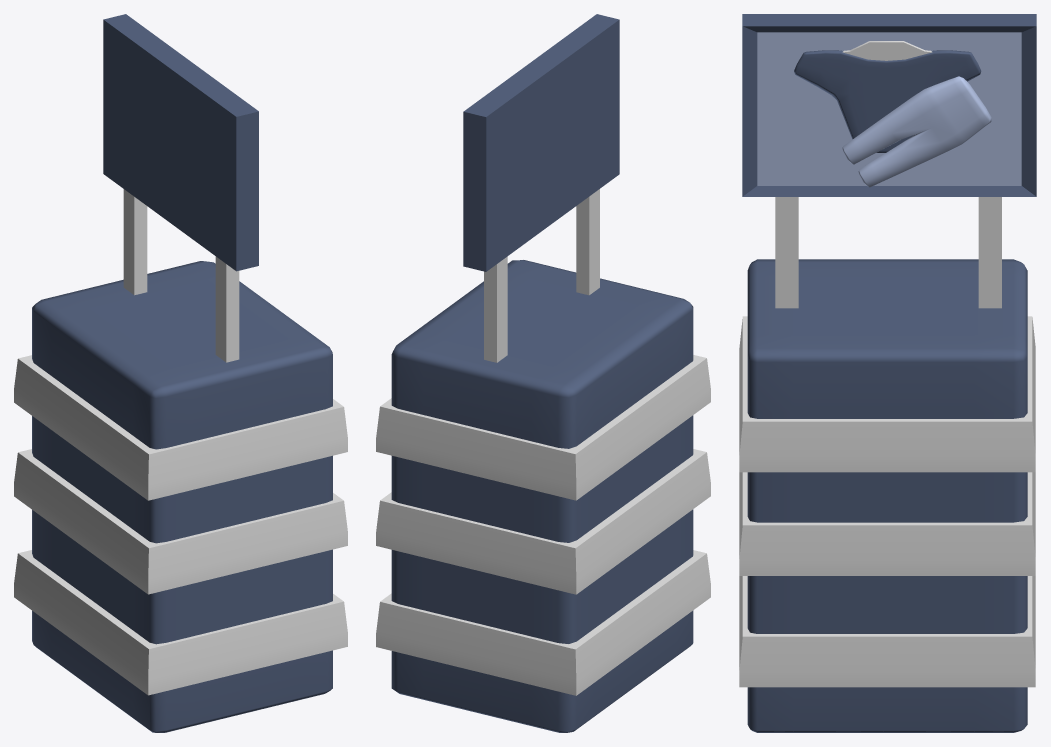
The model's file is Shirtsbuilding.fbx.
The picture shows the model from 3 angles, left to right: view 1: azimuth 30°, elevation 25°; view 2: azimuth 150°, elevation 25°; view 3: azimuth 270°, elevation 25°; orthographic projection. The views are drawn at different scales.
Parts seen in each view (by area): view 1: pCube1, pCube13, pCube27, pCube26, pCube28, pCube11, pCube12; view 2: pCube1, pCube13, pCube26, pCube28, pCube27, pCube12, pCube11; view 3: pCube1, pCube13, pCube26, pCube28, pCube27, pCube23, pCube25, pCube11, pCube12, pCube24.
Part boxes in pixels (x1,y1,x2,y2): pCube1: (32, 261, 332, 732); pCube13: (103, 14, 258, 271); pCube27: (14, 449, 347, 594); pCube26: (14, 355, 347, 500); pCube28: (14, 550, 347, 695); pCube11: (215, 256, 239, 362); pCube12: (123, 189, 147, 295); pCube1: (391, 260, 693, 732); pCube13: (463, 14, 619, 271); pCube26: (376, 355, 710, 500); pCube28: (376, 550, 710, 695); pCube27: (376, 449, 710, 594); pCube12: (484, 256, 507, 362); pCube11: (576, 189, 599, 295); pCube1: (747, 259, 1027, 732); pCube13: (742, 14, 1036, 196); pCube26: (739, 316, 1035, 472); pCube28: (739, 576, 1035, 687); pCube27: (739, 472, 1035, 575); pCube23: (794, 50, 981, 152); pCube25: (842, 76, 991, 187); pCube11: (775, 197, 798, 308); pCube12: (978, 197, 1001, 308); pCube24: (842, 41, 932, 60).
Bounding box in the file's own units: 8.81 × 25.42 × 10.28.
